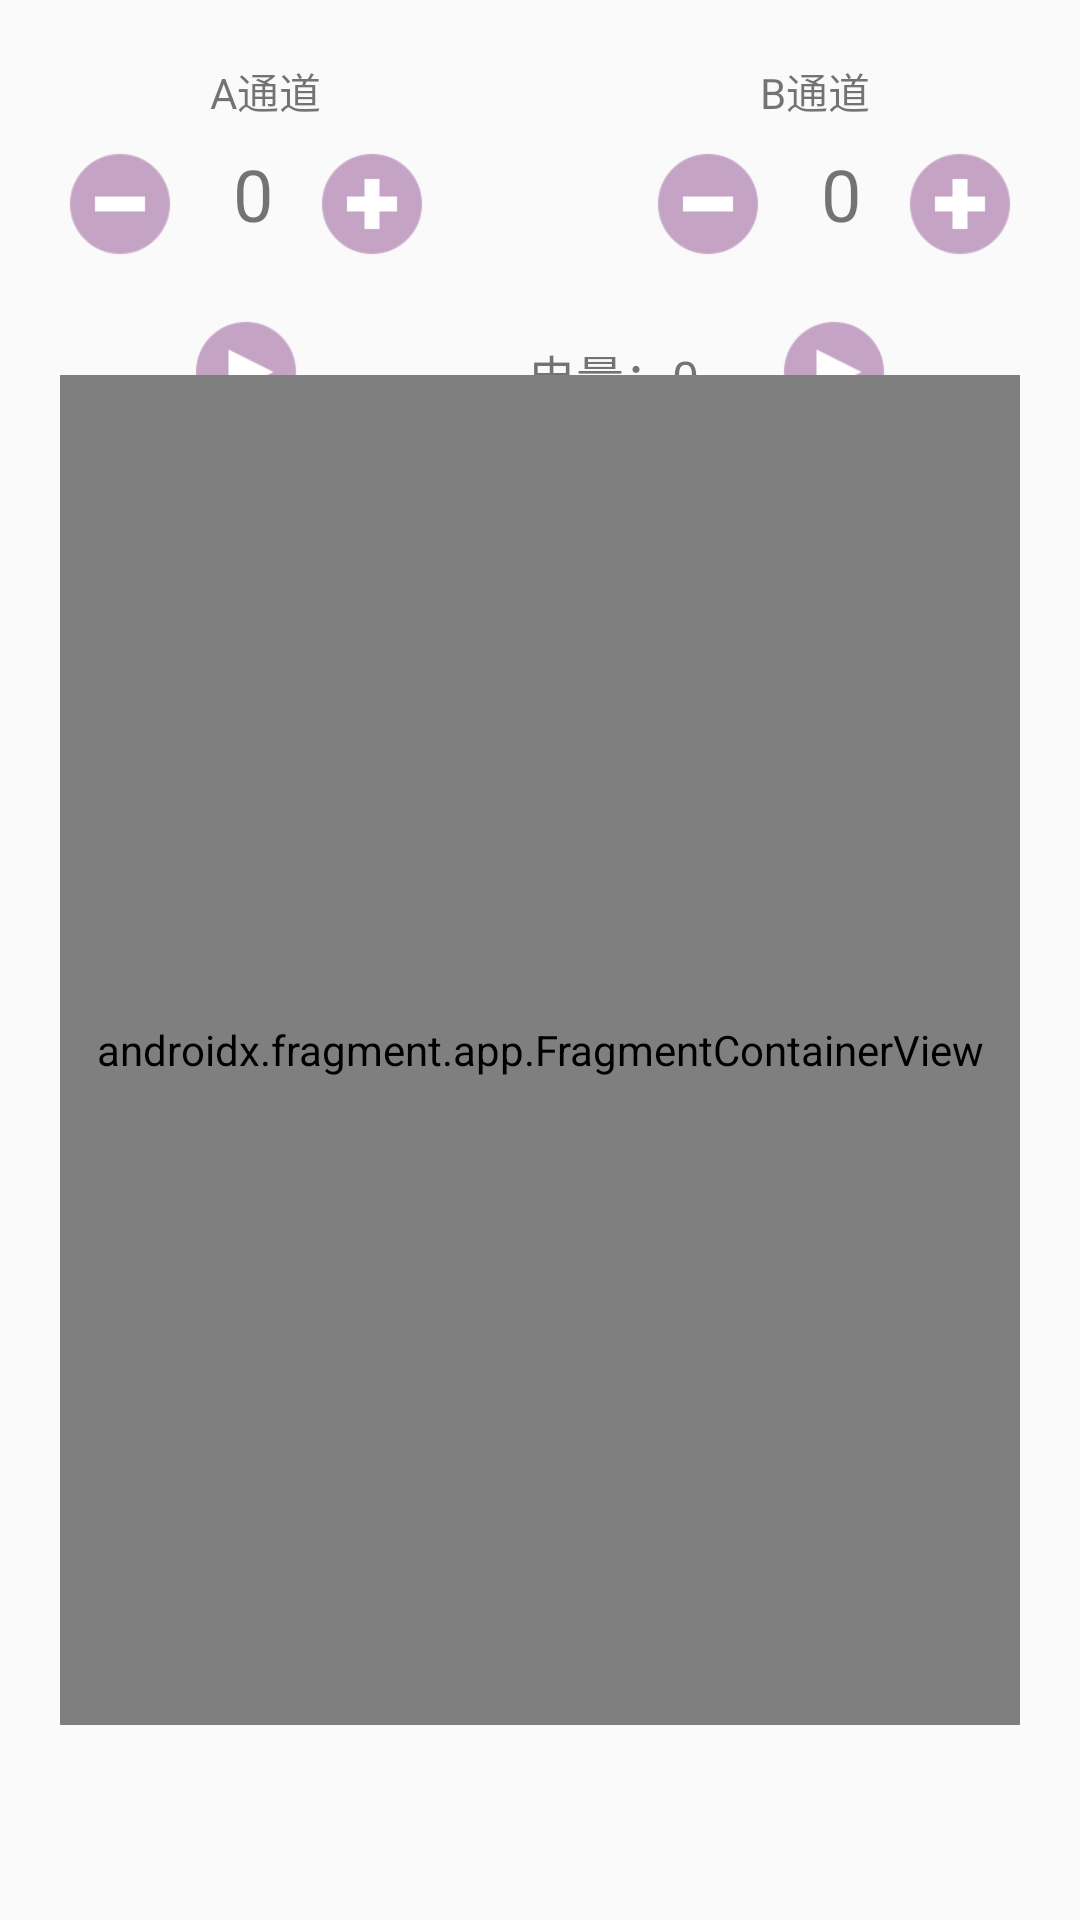

Icon click points for this 1080px x 1920px phone screenshot, format (x=x, y=y):
minus: (x=120, y=204), (x=708, y=204)
plus: (x=372, y=204), (x=960, y=204)
